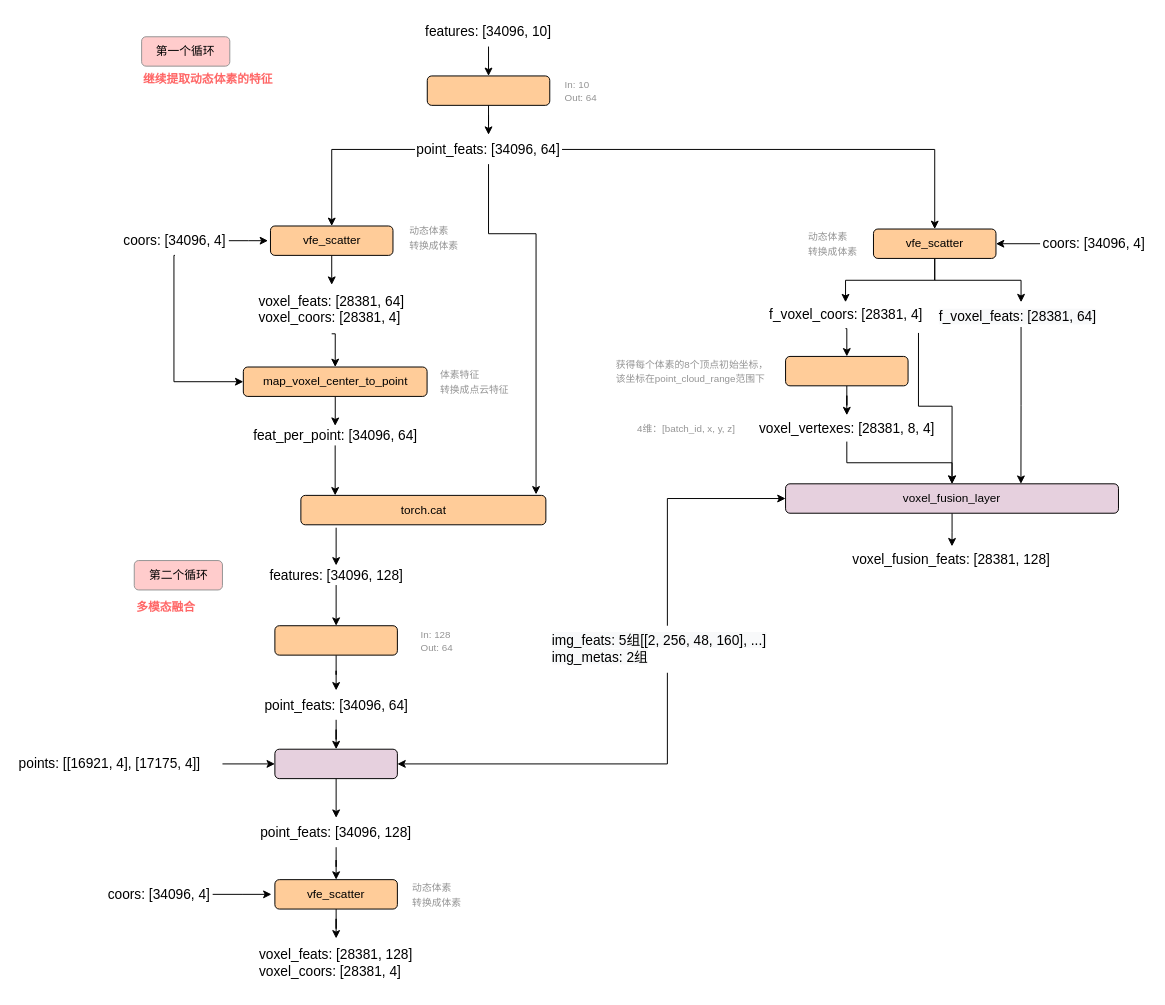
This 1165x1005 diagram has some shape labels left out. Here are the shapes that lost their labels. From the top down, the centre of each, then its label:
point 488,90: vfe_1
point 846,370: map_voxel_to_vertex
point 335,640: vfe_2
point 335,763: fusion_layer
